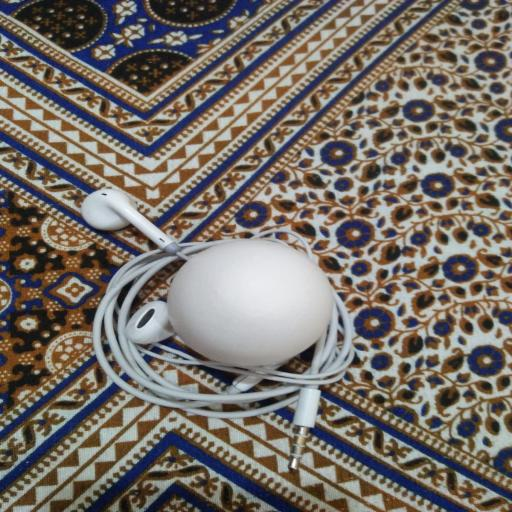telur: (167, 238, 333, 367)
